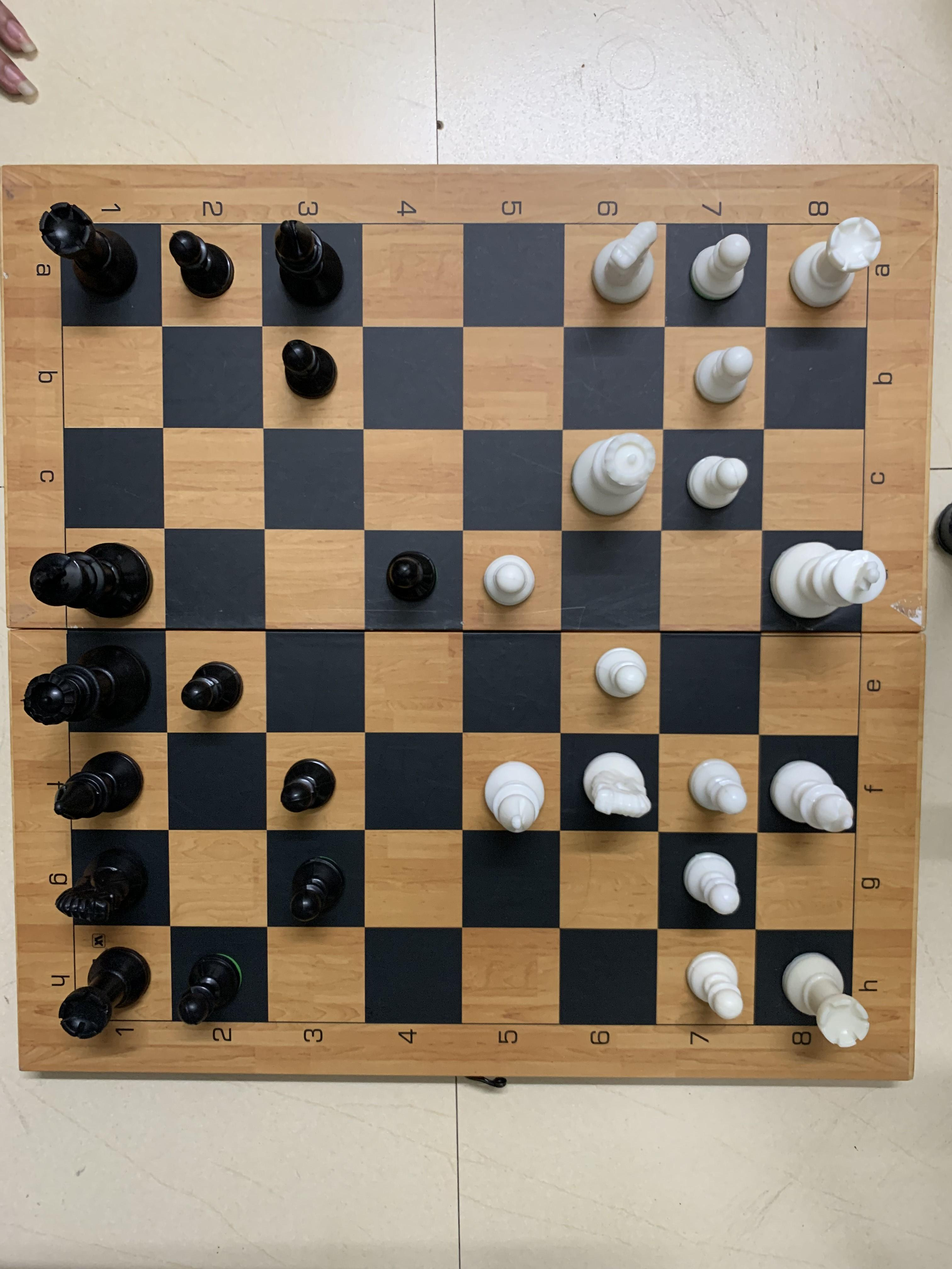black_bishop: (263, 210, 347, 324), (47, 751, 157, 836)
black_king: (27, 531, 157, 629)
black_knight: (47, 845, 154, 943)
black_pawn: (156, 221, 245, 314), (173, 938, 256, 1036), (274, 841, 356, 934), (175, 639, 255, 730), (368, 534, 453, 619), (274, 738, 352, 828), (264, 328, 344, 409)
black_queen: (22, 642, 154, 747)
black_rook: (49, 933, 179, 1057), (35, 197, 147, 315)
white_bishop: (768, 738, 868, 844), (472, 745, 551, 843)
white_king: (767, 531, 896, 638)
white_knight: (575, 210, 673, 317), (574, 740, 663, 836)
white_pawn: (671, 941, 759, 1036), (567, 631, 653, 720), (683, 336, 770, 422), (675, 438, 757, 523), (666, 845, 751, 926), (683, 230, 759, 317), (475, 540, 550, 628), (683, 746, 756, 834)
white_queen: (565, 430, 666, 530)
white_rook: (767, 930, 881, 1056), (784, 214, 891, 317)
